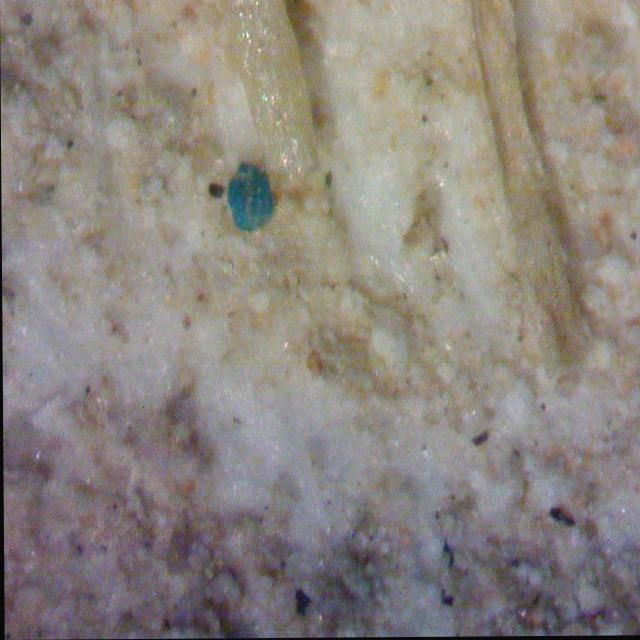microplastic: (226, 161, 277, 238)
